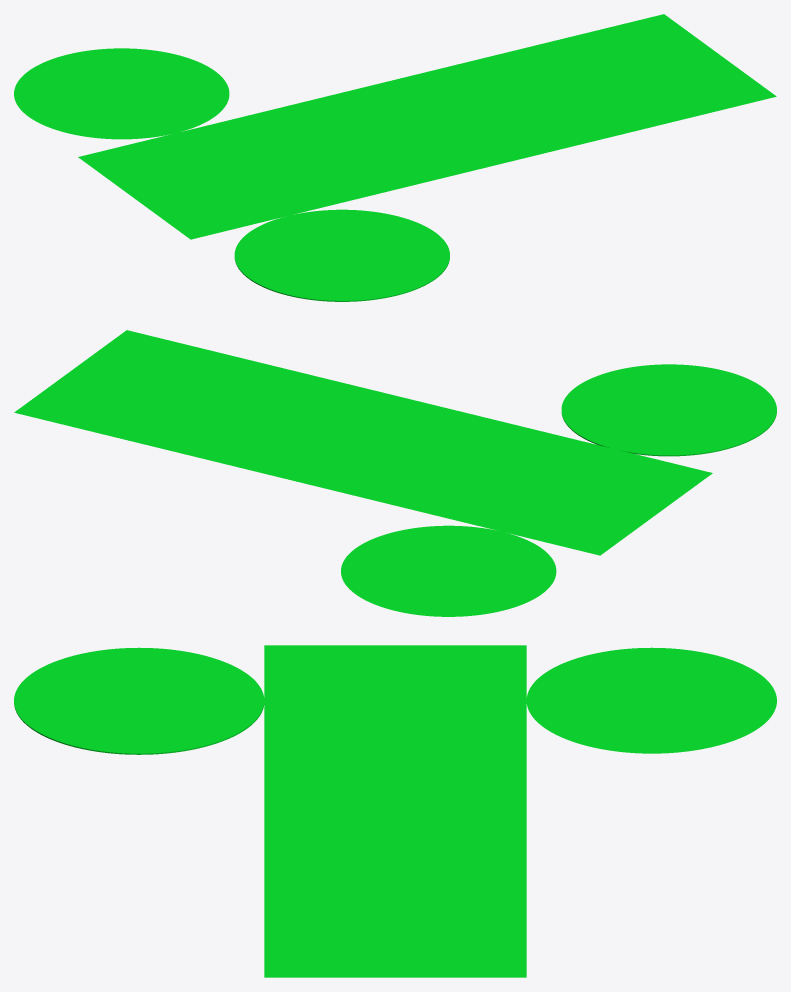
Rendered from plane_bend3.gltf.
The picture shows the model from 3 angles, top to bottom: view 1: azimuth 30°, elevation 25°; view 2: azimuth 150°, elevation 25°; view 3: azimuth 270°, elevation 25°; orthographic projection. The views are drawn at different scales.
Parts seen in each view (by area): view 1: Plane, Circle, Circle.001; view 2: Plane, Circle, Circle.001; view 3: Plane, Circle, Circle.001.
Part boxes in pixels (x1=…): Plane: x1=78, y1=14, x2=776, y2=239; Circle: x1=234, y1=209, x2=449, y2=301; Circle.001: x1=14, y1=48, x2=229, y2=139; Plane: x1=14, y1=330, x2=712, y2=555; Circle: x1=561, y1=364, x2=776, y2=456; Circle.001: x1=341, y1=525, x2=556, y2=616; Plane: x1=264, y1=645, x2=526, y2=977; Circle: x1=14, y1=647, x2=264, y2=754; Circle.001: x1=526, y1=647, x2=776, y2=753.
Size of the model in its own units: 6 by 0.0109 by 5.82.
